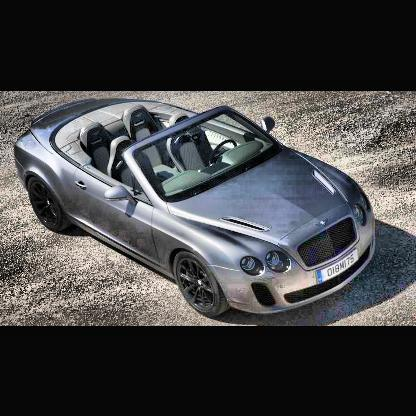Bentley Continental Supersports Conv- Convertible 2012: (15, 97, 380, 319)
